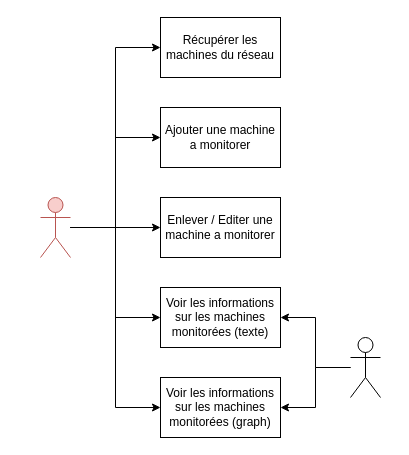
This 409x455 diagram has some shape labels left out. The shapes that lost their labels are listed below. From the top down, each one's centre as x and y in pixels, then its label:
At point 55,227: "Administrateur".
At point 365,367: "Utilisateur".
